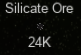Silicate: (4, 1, 75, 49)
